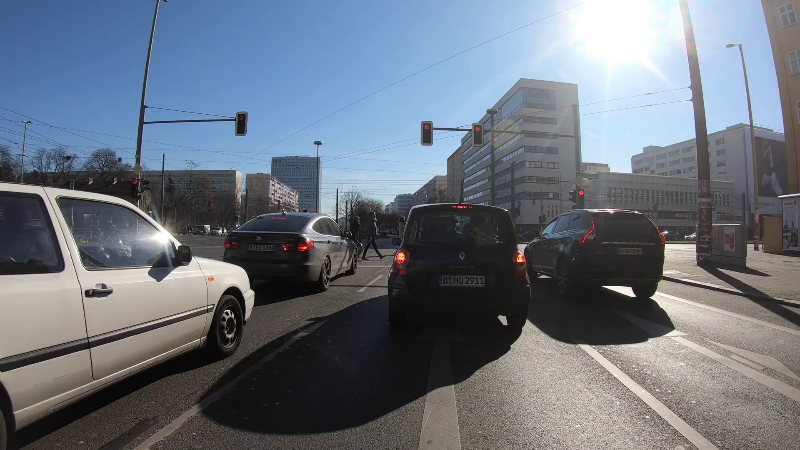Plate: (433, 273, 490, 289), (242, 240, 278, 255), (613, 244, 645, 258)
